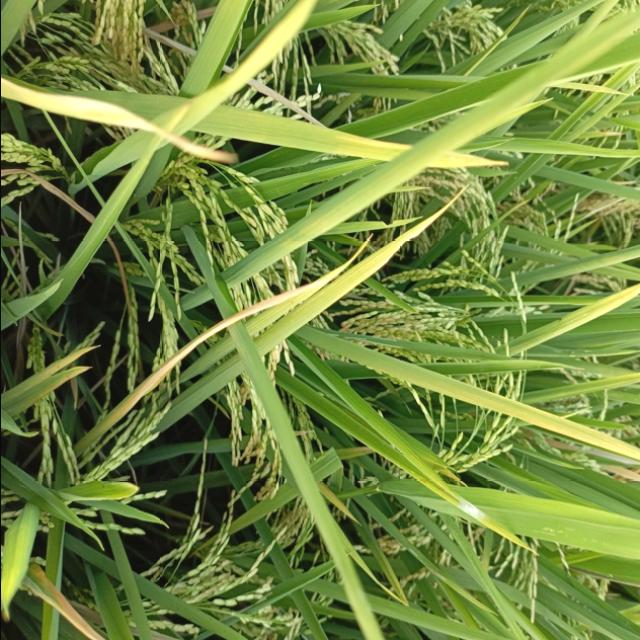Brown spot: (20, 557, 111, 640)
